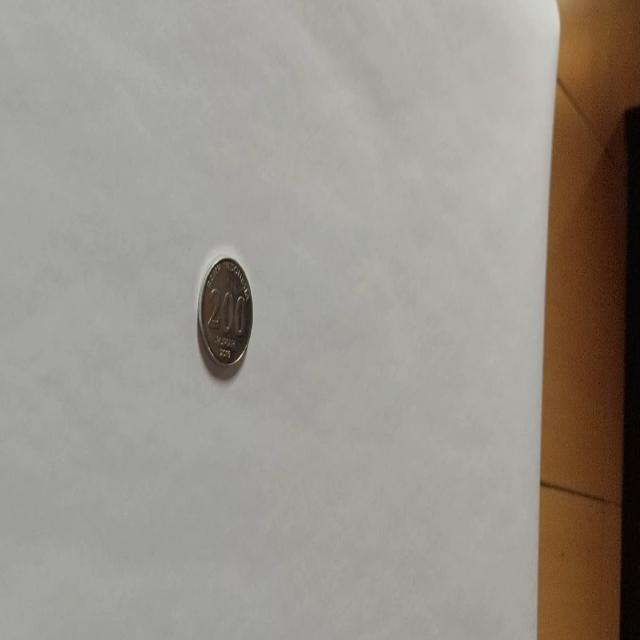dua ratus rupiah: (196, 255, 254, 371)
